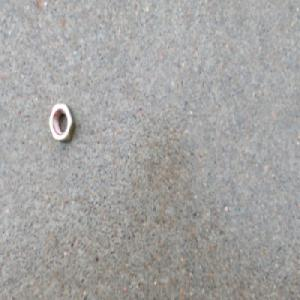Nut: (44, 100, 74, 146)
